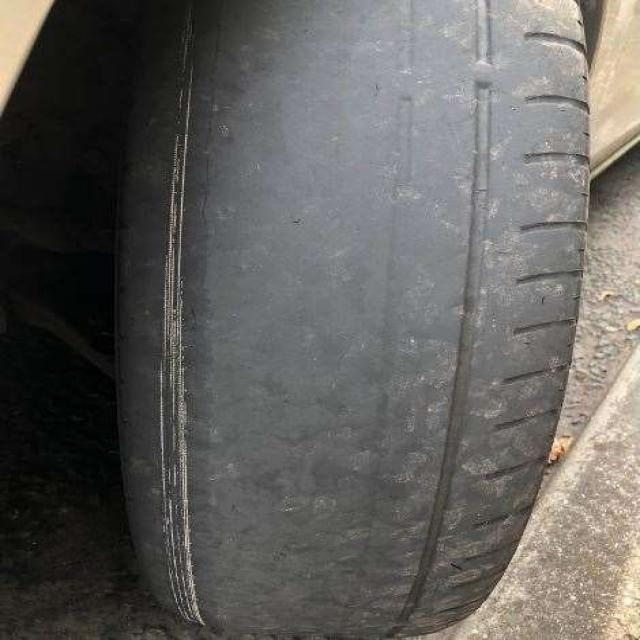Flat spots: (115, 0, 406, 637)
